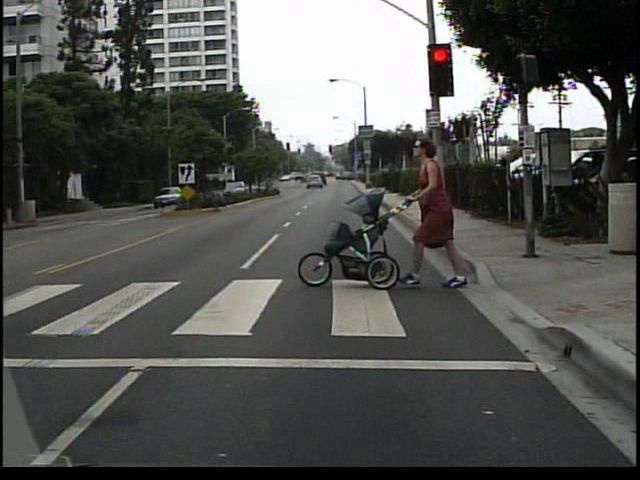person: (399, 134, 486, 292)
